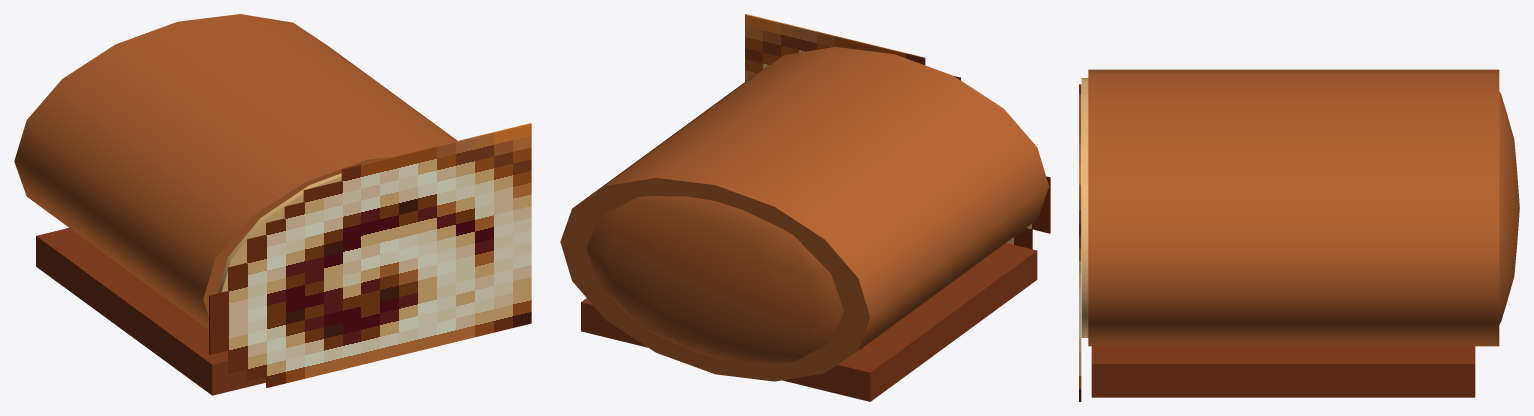
File: CMU3DBakedBreadMeat.glb
3 views of the same model, side by side, from view 1: azimuth 30°, elevation 25°; view 2: azimuth 150°, elevation 25°; view 3: azimuth 270°, elevation 25° (orthographic). The views are drawn at different scales.
Visible parts, largest first — view 1: rounded loaf crust vault, original cut crumb and filling, flat crust sole, solid cut crumb end; view 2: rounded loaf crust vault, rounded rear heel, flat crust sole, original cut crumb and filling; view 3: rounded loaf crust vault, flat crust sole, rounded rear heel, solid cut crumb end, original cut crumb and filling.
Part boxes in pixels (x1,y1,x2,y2): rounded loaf crust vault: (14, 14, 457, 329); original cut crumb and filling: (209, 123, 531, 387); flat crust sole: (36, 228, 265, 395); solid cut crumb end: (218, 173, 341, 293); rounded loaf crust vault: (560, 47, 1048, 381); rounded rear heel: (586, 196, 843, 363); flat crust sole: (581, 243, 1037, 401); original cut crumb and filling: (745, 14, 1050, 249); rounded loaf crust vault: (1088, 69, 1499, 346); flat crust sole: (1091, 345, 1475, 397); rounded rear heel: (1499, 92, 1519, 323); solid cut crumb end: (1081, 78, 1088, 337); original cut crumb and filling: (1079, 84, 1081, 401).
Bounding box in the file's own units: 0.6 × 0.35 × 0.6435.
Materials: 4 (1 with a texture image).
